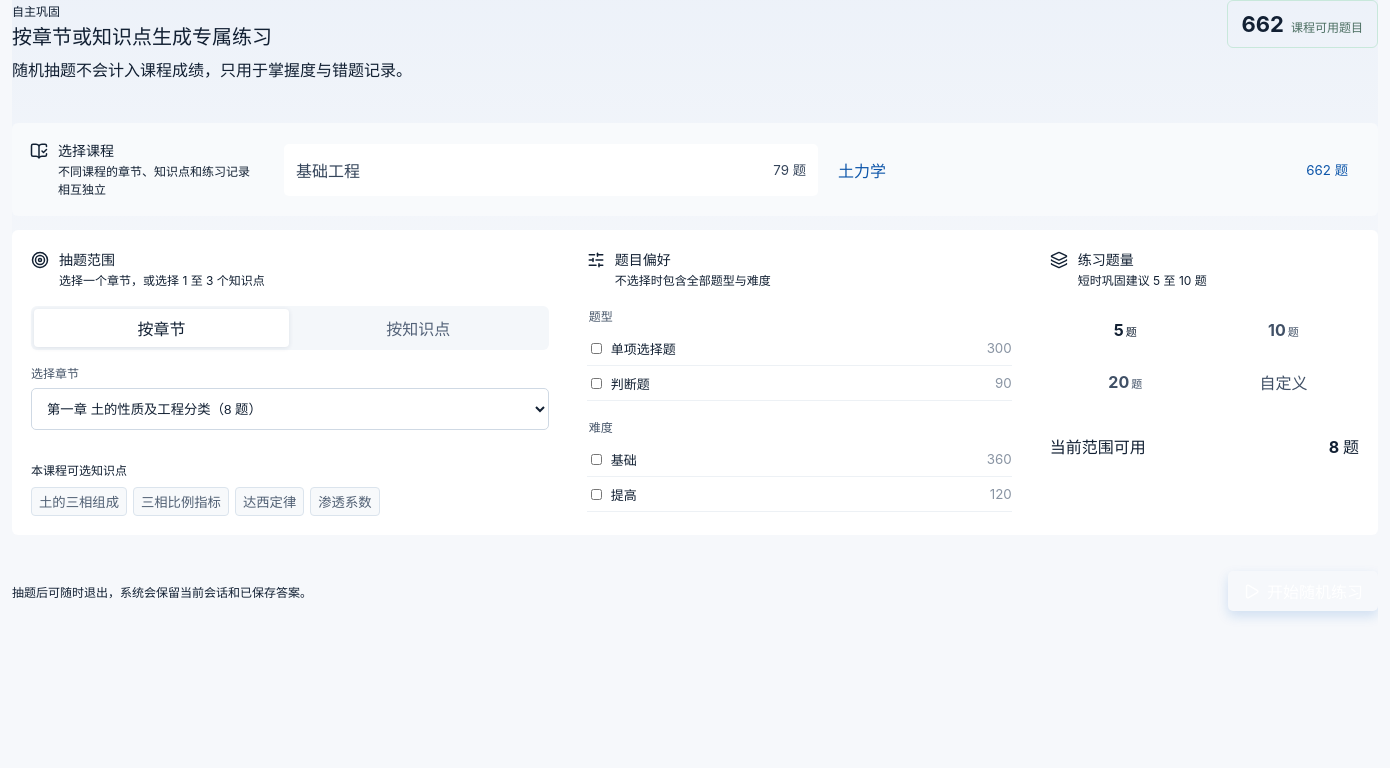
Test: 随机练习按课程隔离章节和知识点并限制最多选择三个知识点
expect the text "达西定律" is shown: met, box left=235, top=487, right=304, bottom=516
Click the button "基础工程 79 题" at (328, 170), box left=284, top=144, right=818, bottom=196
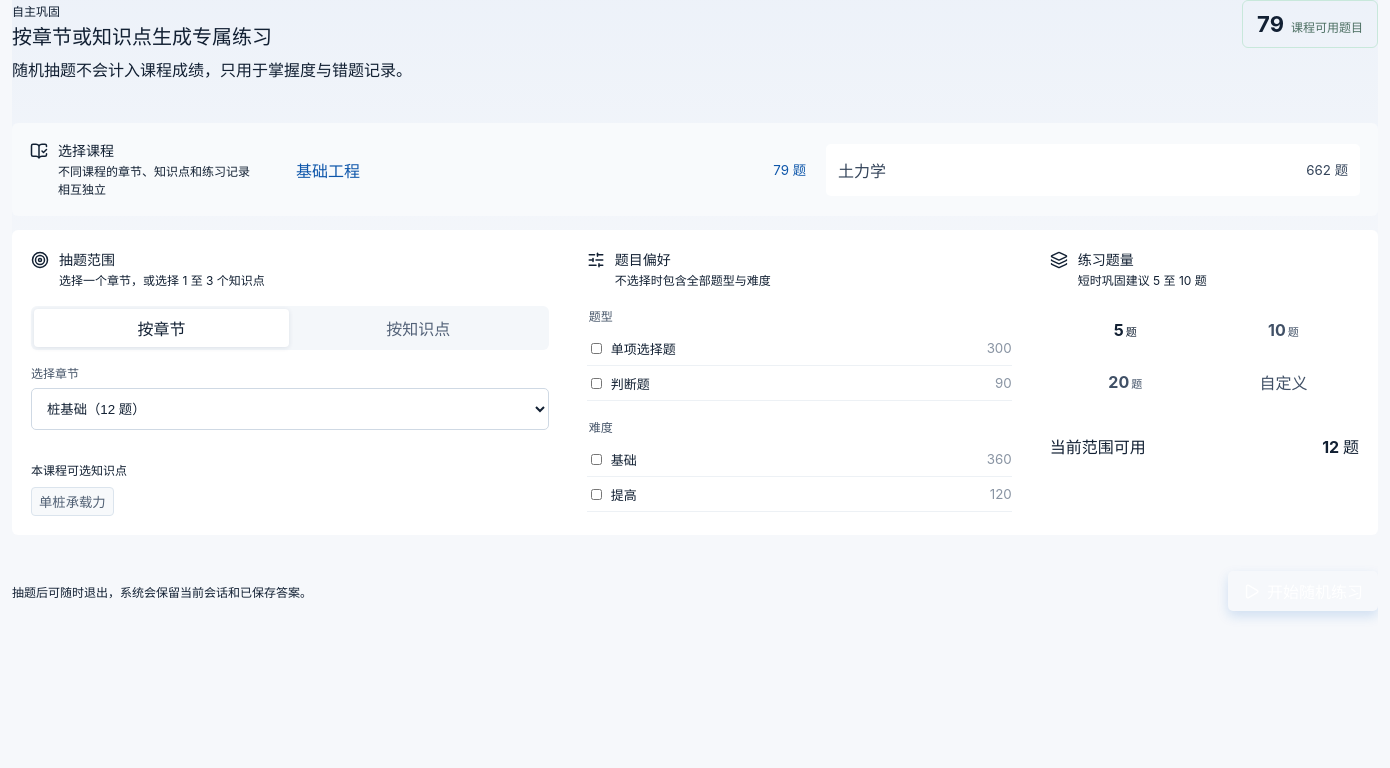
expect the text "单桩承载力" is shown: met, box left=31, top=487, right=114, bottom=516
expect the text "达西定律" is gone: met
Click the button "土力学 662 题" at (862, 170), box left=826, top=144, right=1360, bottom=196
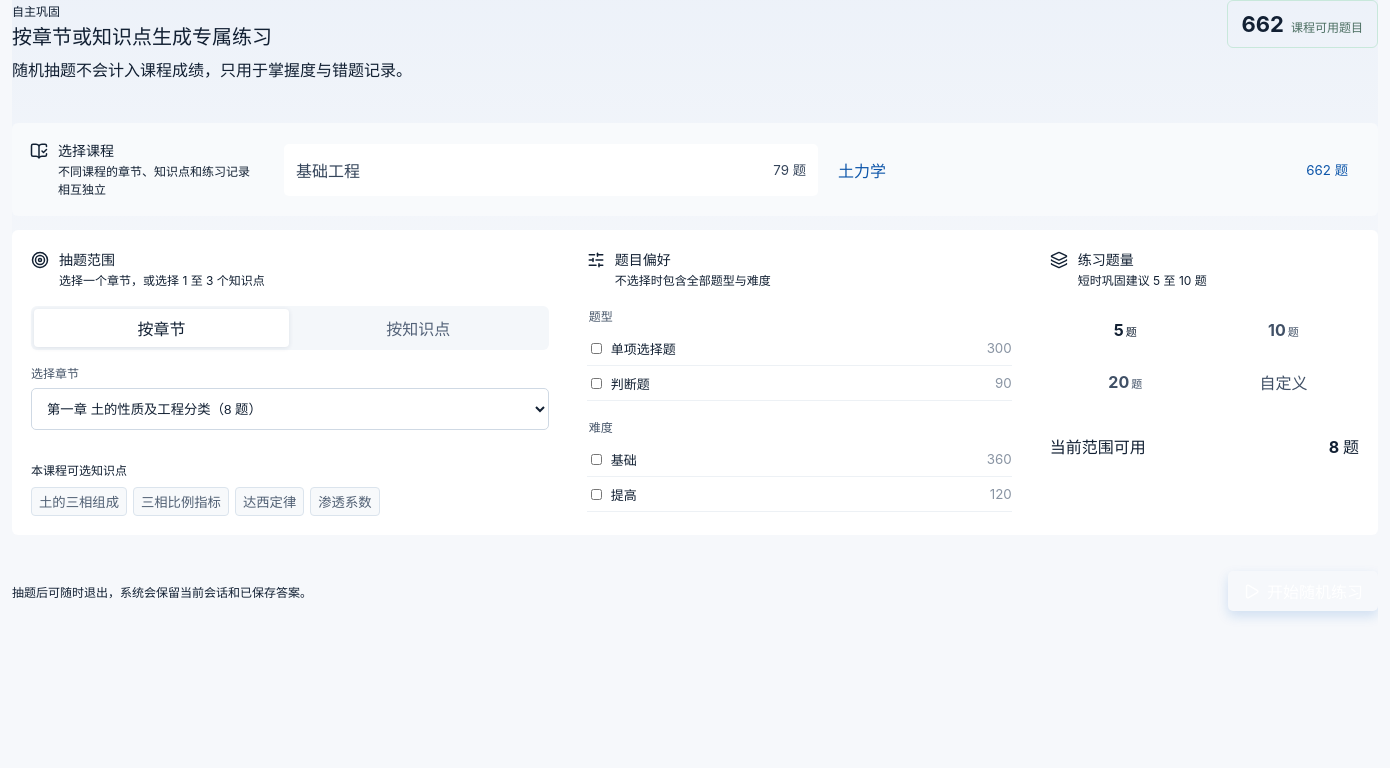
expect the text "达西定律" is shown: met, box left=235, top=487, right=304, bottom=516
Click the tab "按知识点" at (418, 328), box left=291, top=309, right=546, bottom=347
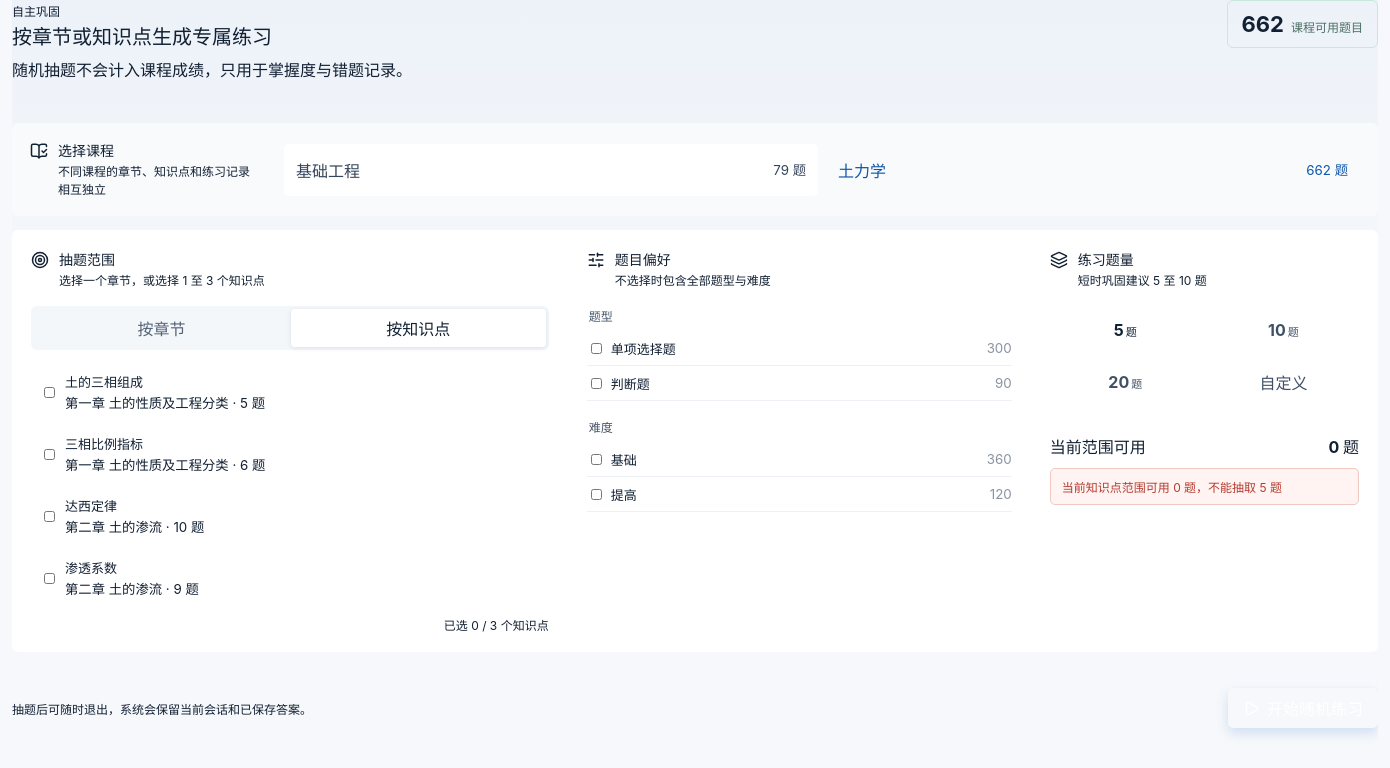
Click the checkbox labelled "土的三相组成" at (50, 392), box left=44, top=386, right=55, bottom=398
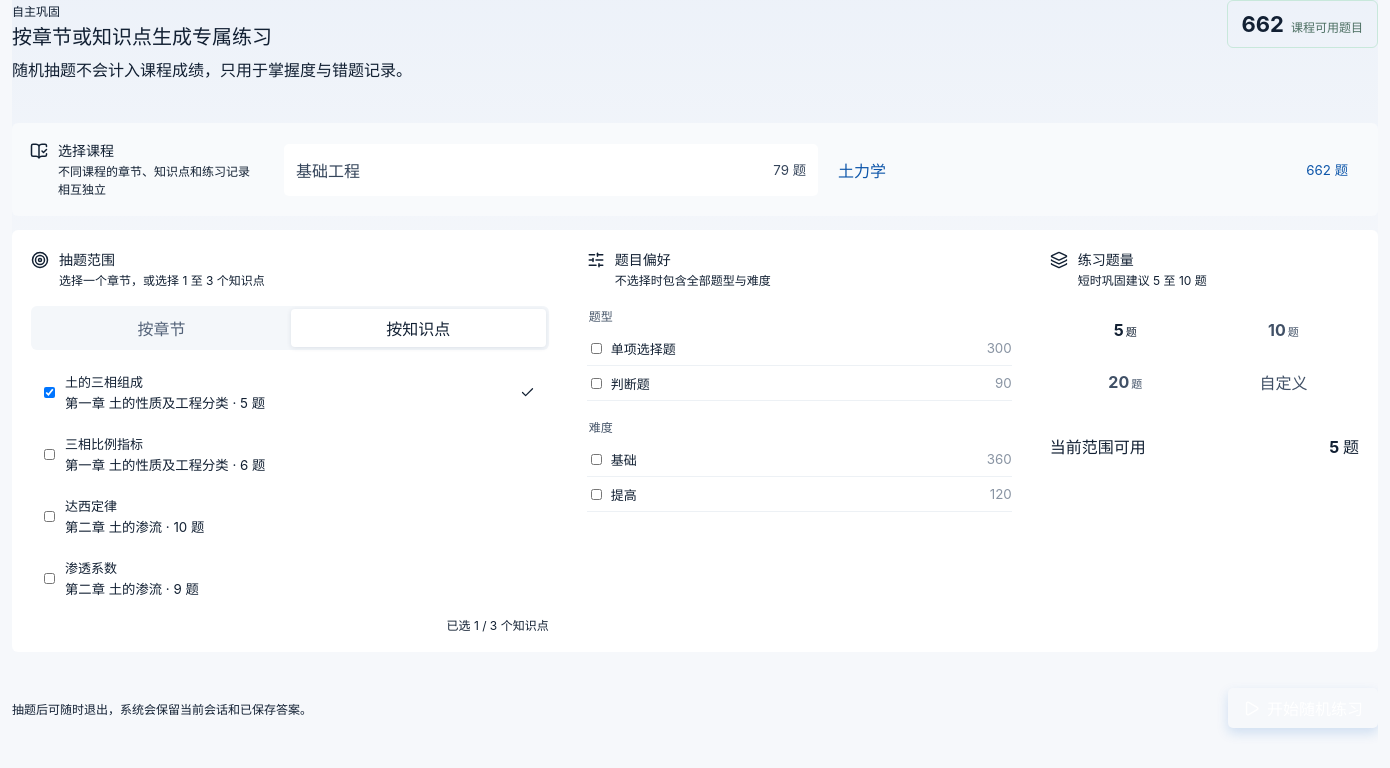
Click the checkbox labelled "三相比例指标" at (50, 454), box left=44, top=448, right=55, bottom=460
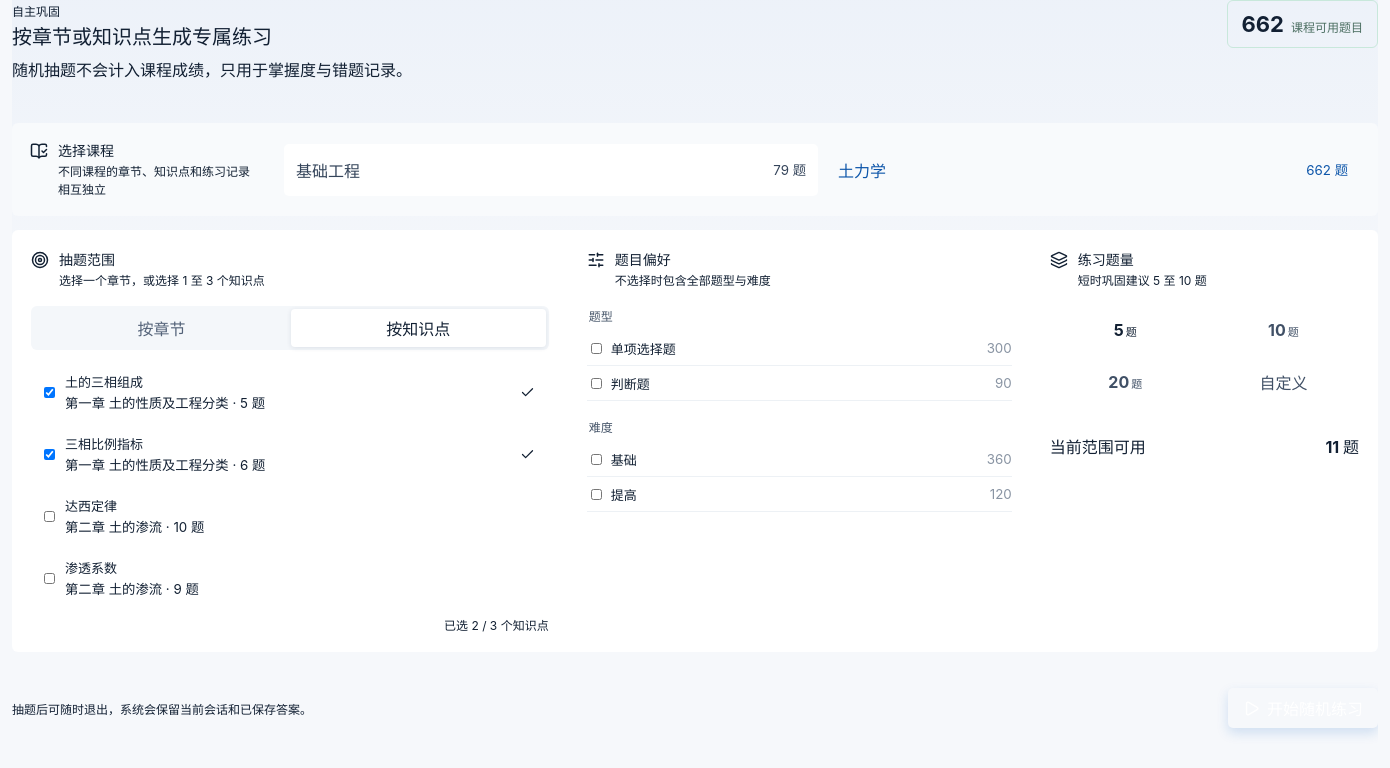
Click the checkbox labelled "达西定律" at (50, 516), box left=44, top=510, right=55, bottom=522
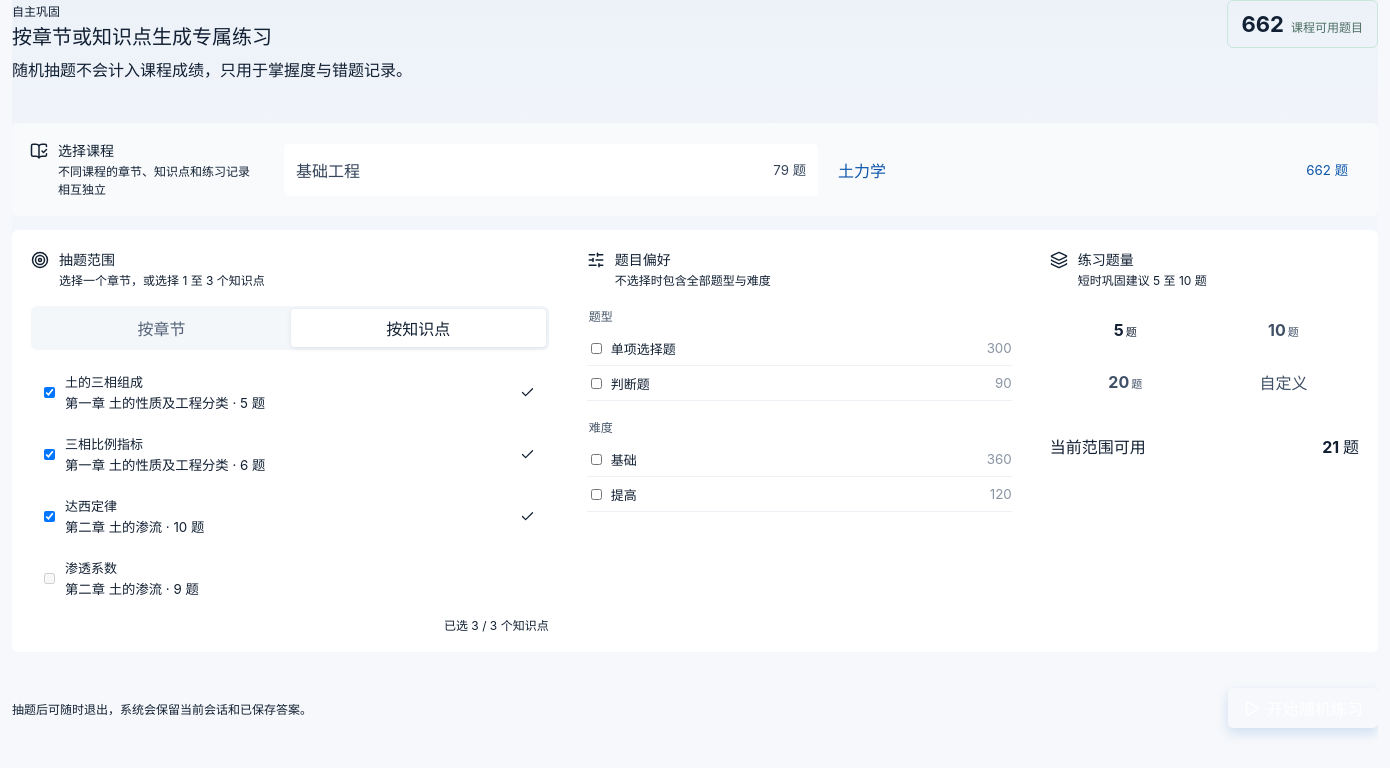
expect the checkbox labelled "渗透系数" is disabled: met, box left=44, top=572, right=55, bottom=584
expect the text "已选 3 / 3 个知识点" is shown: met, box left=444, top=618, right=549, bottom=633
